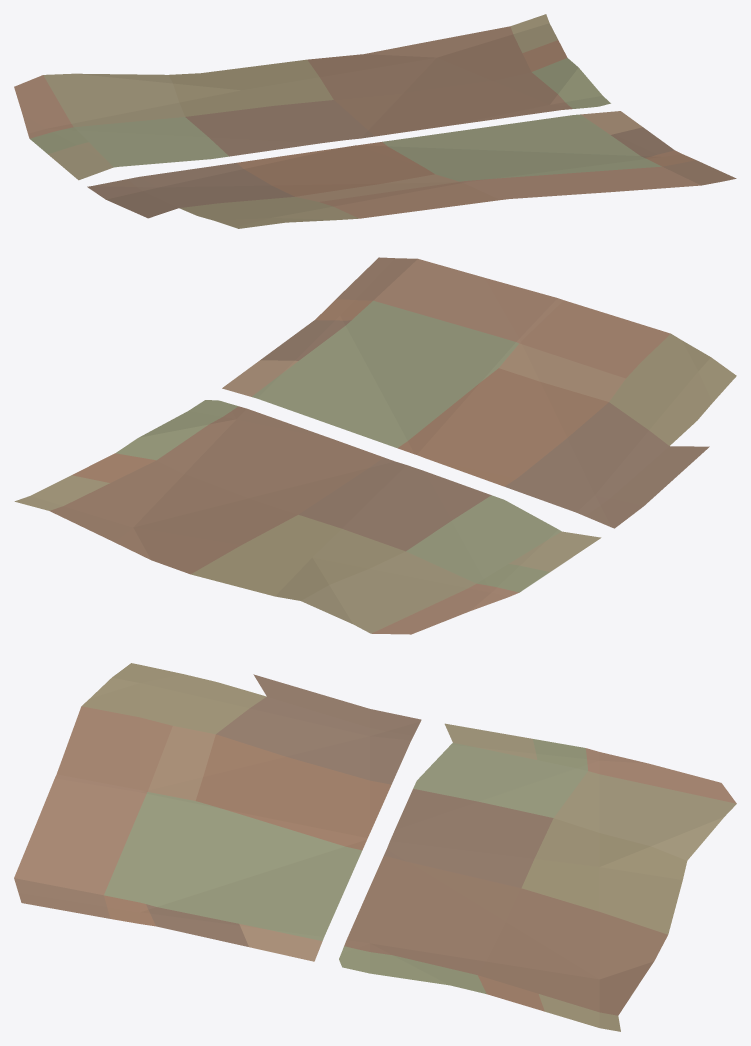
Rendered from farm_-47_-50_soil.glb.
3 views of the same model, one above another, from view 1: azimuth 30°, elevation 25°; view 2: azimuth 150°, elevation 25°; view 3: azimuth 270°, elevation 25° (orthographic). The views are drawn at different scales.
Parts seen in each view (by area): view 1: geometry_0; view 2: geometry_0; view 3: geometry_0.
Part boxes in pixels (<box>): geometry_0: <box>14,14,736,228</box>; geometry_0: <box>14,257,736,634</box>; geometry_0: <box>14,663,736,1031</box>.
Size of the model in its own units: 237 by 43.42 by 252.
